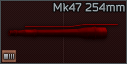Mk47 254mm barrel: (0, 0, 127, 64)
